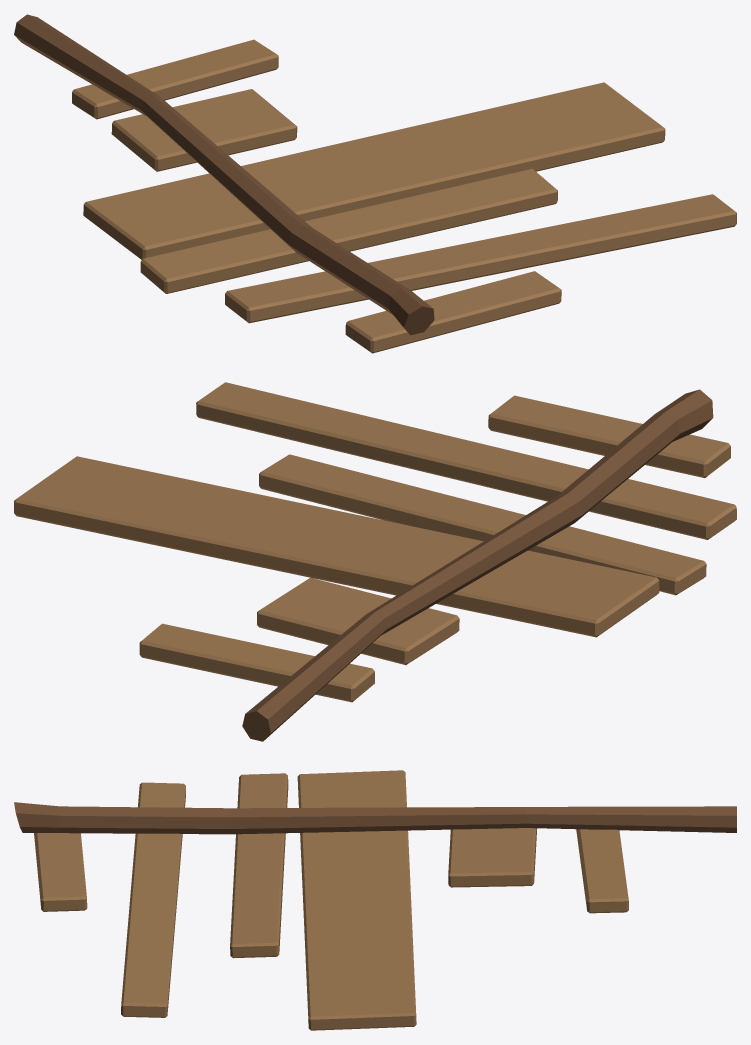
The model's file is Panel_14.fbx.
3 renders of one model, top to bottom at view 1: azimuth 30°, elevation 25°; view 2: azimuth 150°, elevation 25°; view 3: azimuth 270°, elevation 25°, orthographic. The views are drawn at different scales.
Parts seen in each view (by area): view 1: Poteau 1*6 bizzare LOW.002; view 2: Poteau 1*6 bizzare LOW.002; view 3: Poteau 1*6 bizzare LOW.002.
Part boxes in pixels (x1,y1,x2,y2): Poteau 1*6 bizzare LOW.002: [14, 14, 736, 353]; Poteau 1*6 bizzare LOW.002: [14, 382, 736, 741]; Poteau 1*6 bizzare LOW.002: [14, 770, 736, 1030].
Size of the model in its own units: 125 by 12.71 by 161.
